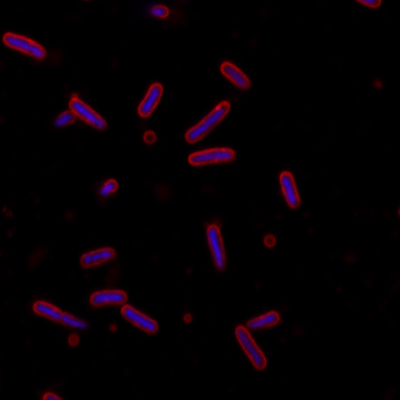Oblique: (32, 298, 90, 331), (204, 222, 228, 275), (246, 307, 283, 332), (96, 172, 121, 200), (48, 110, 76, 131), (146, 1, 171, 20)
Rifampicin: (185, 100, 233, 143), (233, 326, 269, 373), (68, 94, 108, 130), (3, 30, 46, 60), (120, 303, 160, 334), (135, 81, 165, 118), (219, 59, 252, 91), (184, 147, 238, 166), (278, 169, 301, 210), (87, 290, 128, 309), (80, 246, 114, 268)
Vesicle: (261, 231, 279, 249), (139, 130, 158, 147), (64, 332, 82, 348), (107, 320, 119, 333), (181, 312, 194, 323), (371, 79, 384, 90)
